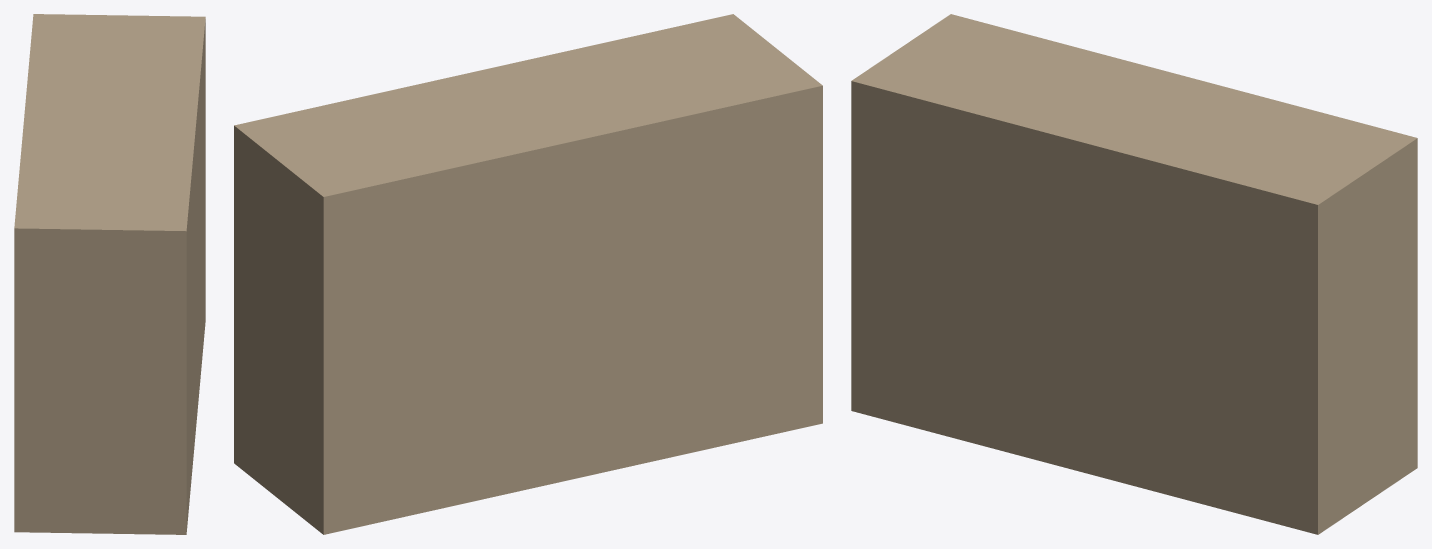
The model's file is bld_100469621.dae.
3 renders of one model, left to right at view 1: azimuth 30°, elevation 25°; view 2: azimuth 150°, elevation 25°; view 3: azimuth 270°, elevation 25°, orthographic. The views are drawn at different scales.
Parts seen in each view (by area): view 1: bld_100469621; view 2: bld_100469621; view 3: bld_100469621.
Part boxes in pixels (left/top/right/bottom): bld_100469621: left=14, top=14, right=205, bottom=534; bld_100469621: left=234, top=14, right=822, bottom=534; bld_100469621: left=851, top=14, right=1417, bottom=534.
Bounding box in the file's own units: 9.93 × 12.45 × 8.
